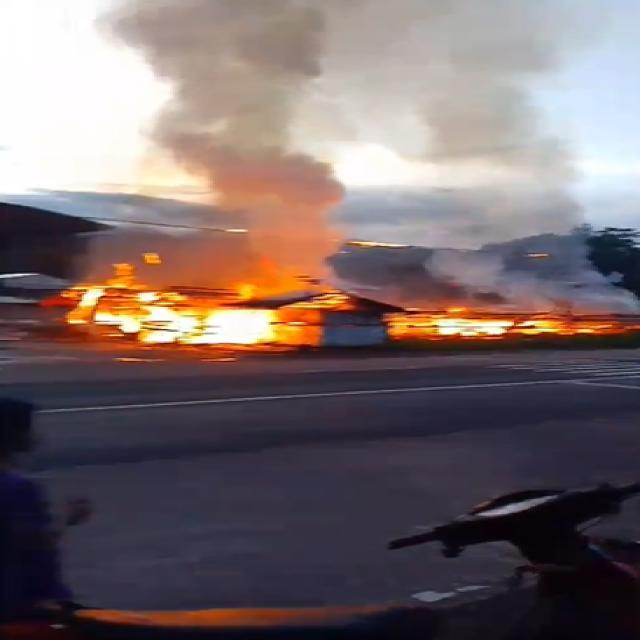Fire: (65, 262, 322, 348), (407, 306, 594, 338)
Smoke: (128, 0, 354, 288)
